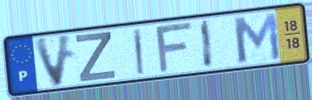F: (154, 20, 195, 76)
I: (199, 17, 216, 70), (131, 27, 146, 77)
M: (230, 10, 283, 65)
V: (31, 32, 75, 90)
Z: (74, 30, 118, 84)
